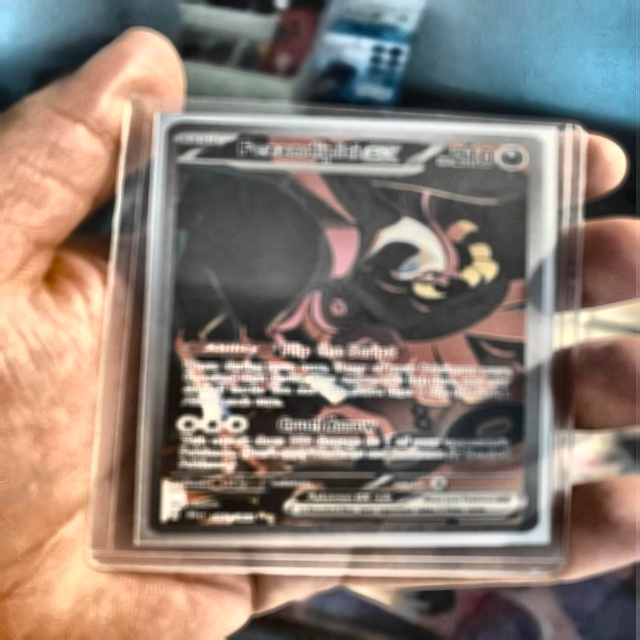card: (146, 120, 547, 536)
